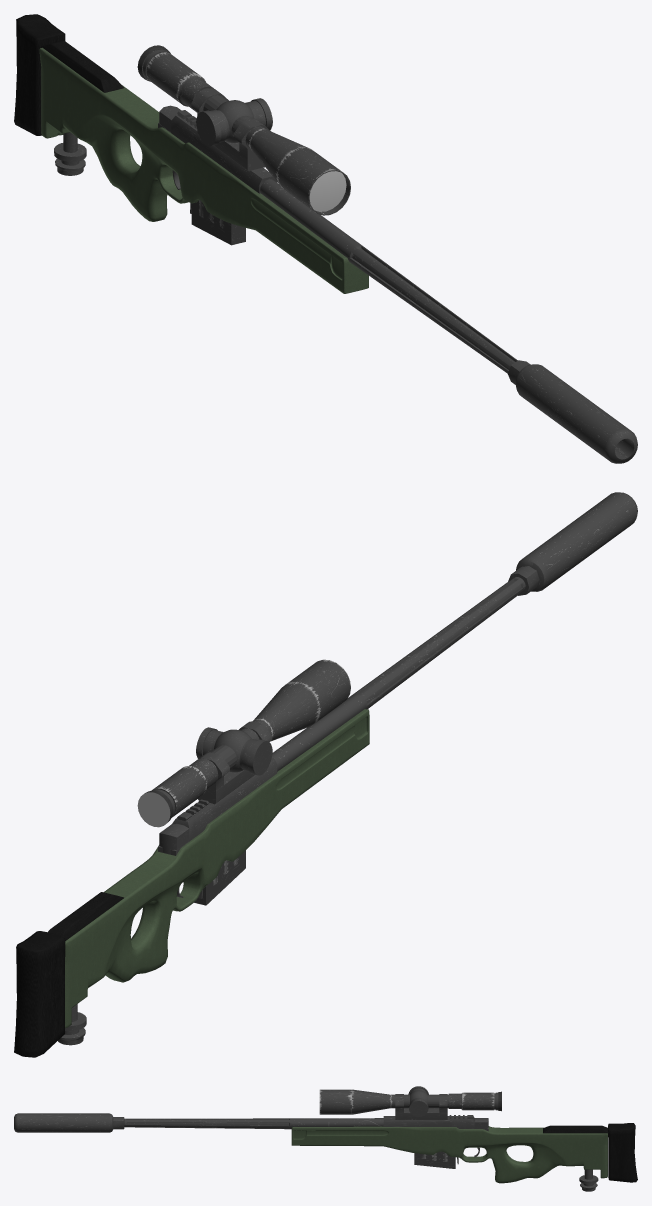
3 renders of one model, top to bottom at view 1: azimuth 30°, elevation 25°; view 2: azimuth 150°, elevation 25°; view 3: azimuth 270°, elevation 25°, orthographic. The views are drawn at different scales.
Visible parts, largest first — view 1: Team3_Sanchez_L96A1; view 2: Team3_Sanchez_L96A1; view 3: Team3_Sanchez_L96A1.
Part boxes in pixels (x1,y1,x2,y2): Team3_Sanchez_L96A1: [14, 14, 637, 463]; Team3_Sanchez_L96A1: [14, 492, 637, 1057]; Team3_Sanchez_L96A1: [14, 1086, 637, 1191].
Size of the model in its own units: 2.03 by 6.46 by 36.76.
Materials: 6 (5 with a texture image).
